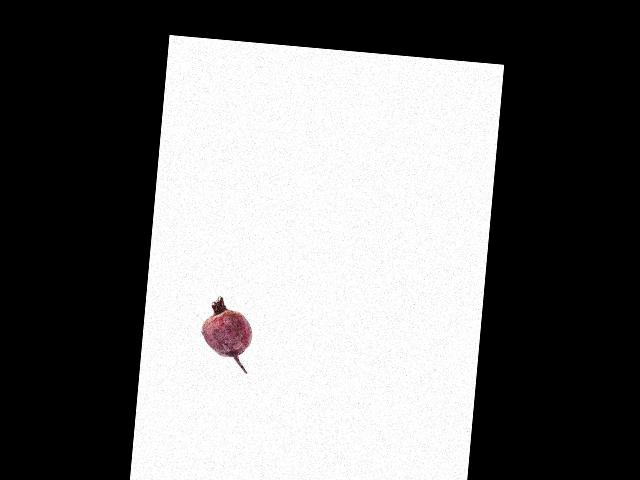beet: (199, 295, 255, 372)
